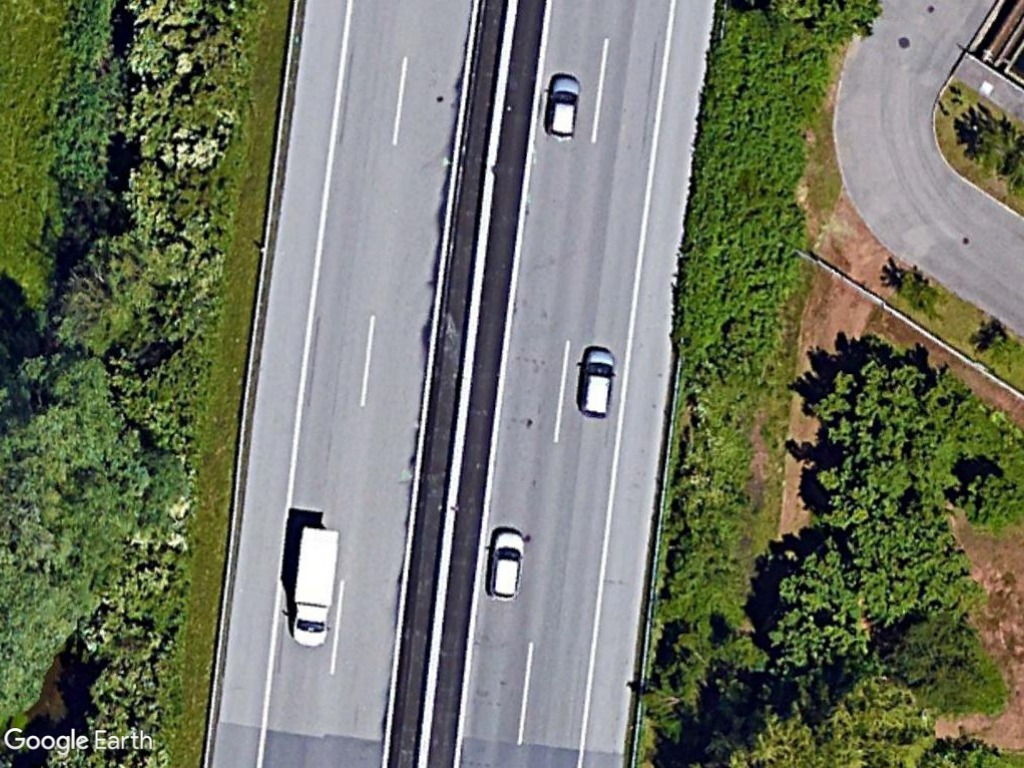car: (572, 341, 620, 424), (484, 526, 527, 609), (542, 70, 582, 147)
truck: (281, 517, 346, 655)
